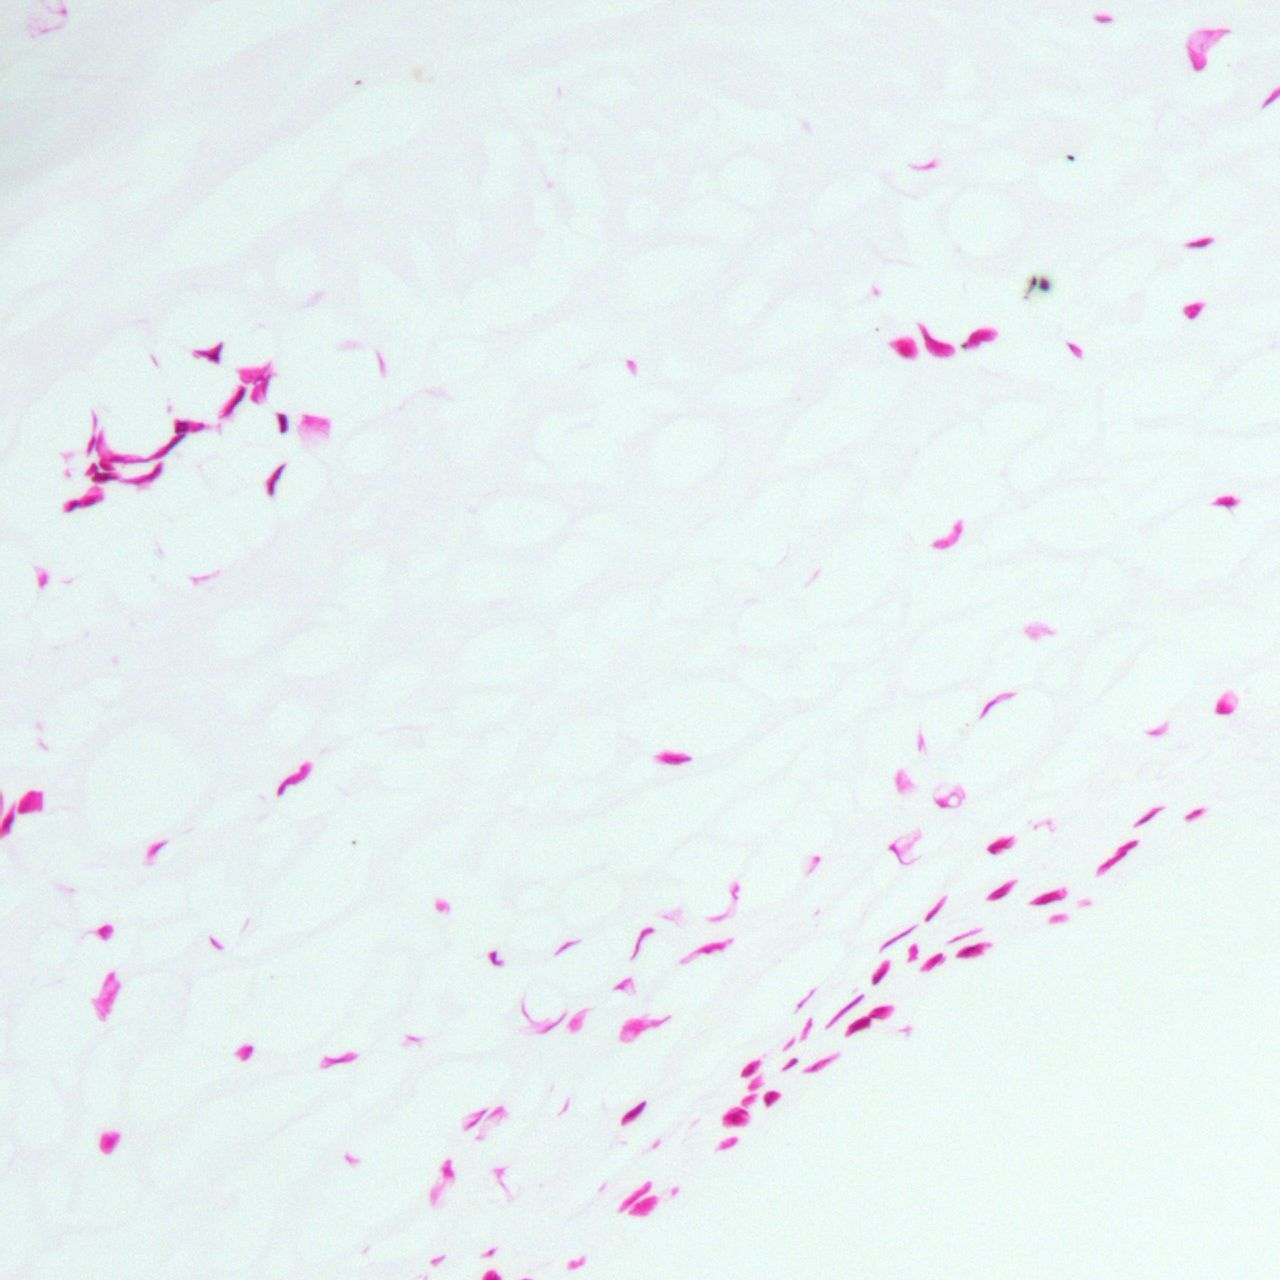dust: (1038, 275, 1050, 291), (1030, 275, 1037, 286), (1066, 154, 1074, 160)
nucleus-FG: (839, 997, 895, 1043), (273, 755, 318, 801), (1093, 835, 1139, 877), (823, 991, 866, 1030), (57, 482, 107, 515), (873, 921, 920, 955), (146, 430, 186, 465), (216, 380, 250, 420), (953, 935, 994, 965), (616, 1097, 651, 1128), (984, 876, 1020, 906), (985, 830, 1019, 860), (1131, 801, 1165, 830), (921, 891, 950, 924), (1028, 885, 1067, 909), (919, 948, 946, 976), (867, 957, 893, 986), (193, 340, 223, 363), (1184, 232, 1216, 253), (736, 1056, 764, 1080), (266, 462, 285, 496), (721, 1106, 749, 1128), (653, 751, 692, 766), (1182, 803, 1208, 825), (174, 416, 205, 434), (0, 801, 15, 837), (778, 1054, 801, 1073), (232, 1043, 253, 1061), (763, 1090, 781, 1108), (90, 473, 120, 483), (276, 412, 288, 432), (907, 943, 917, 961)
